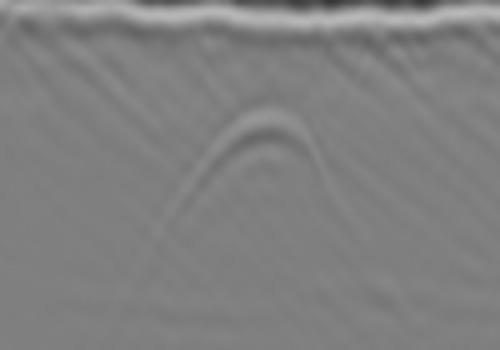hyperbola: (177, 104, 344, 211)
